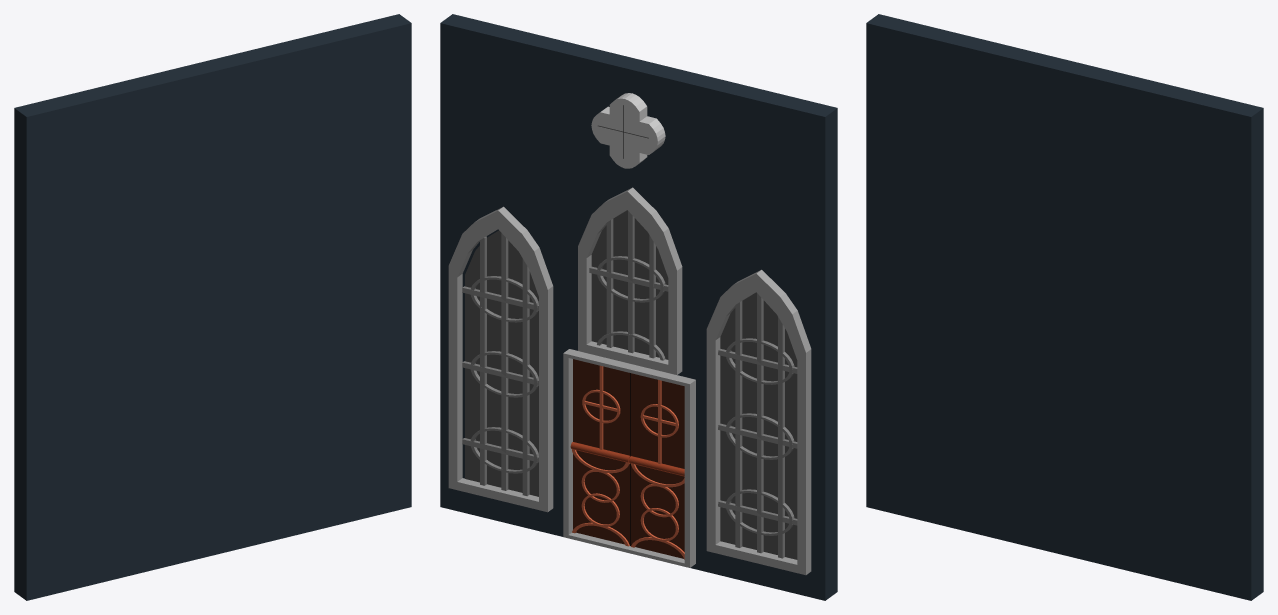
The model's file is fist_floor_side_face_window_and_door.glb.
The picture shows the model from 3 angles, left to right: view 1: azimuth 30°, elevation 25°; view 2: azimuth 150°, elevation 25°; view 3: azimuth 330°, elevation 25°; orthographic projection.
Parts seen in each view (by area): view 1: Cube.042; view 2: Cube.042, Cylinder.004, Cube.032, Cube.021, Cube.022, Cube.033, Cube.002, Cube.001, Cube.023, Cube.015, Cube.025, Cube.034 (+16 smaller); view 3: Cube.042.
Part boxes in pixels (x1=…): Cube.042: x1=14, y1=14, x2=411, y2=600; Cube.042: x1=440, y1=14, x2=837, y2=600; Cylinder.004: x1=563, y1=349, x2=695, y2=567; Cube.032: x1=720, y1=292, x2=797, y2=559; Cube.021: x1=465, y1=230, x2=538, y2=496; Cube.022: x1=448, y1=206, x2=553, y2=512; Cube.033: x1=706, y1=269, x2=811, y2=575; Cube.002: x1=578, y1=187, x2=682, y2=374; Cube.001: x1=591, y1=210, x2=668, y2=359; Cube.023: x1=501, y1=233, x2=508, y2=490; Cube.015: x1=735, y1=301, x2=742, y2=547; Cube.025: x1=522, y1=259, x2=529, y2=496; Cube.034: x1=757, y1=293, x2=763, y2=553; Cube.042: x1=866, y1=14, x2=1263, y2=600.
Bounding box in the file's own units: 9.64 × 11.58 × 0.9086.
